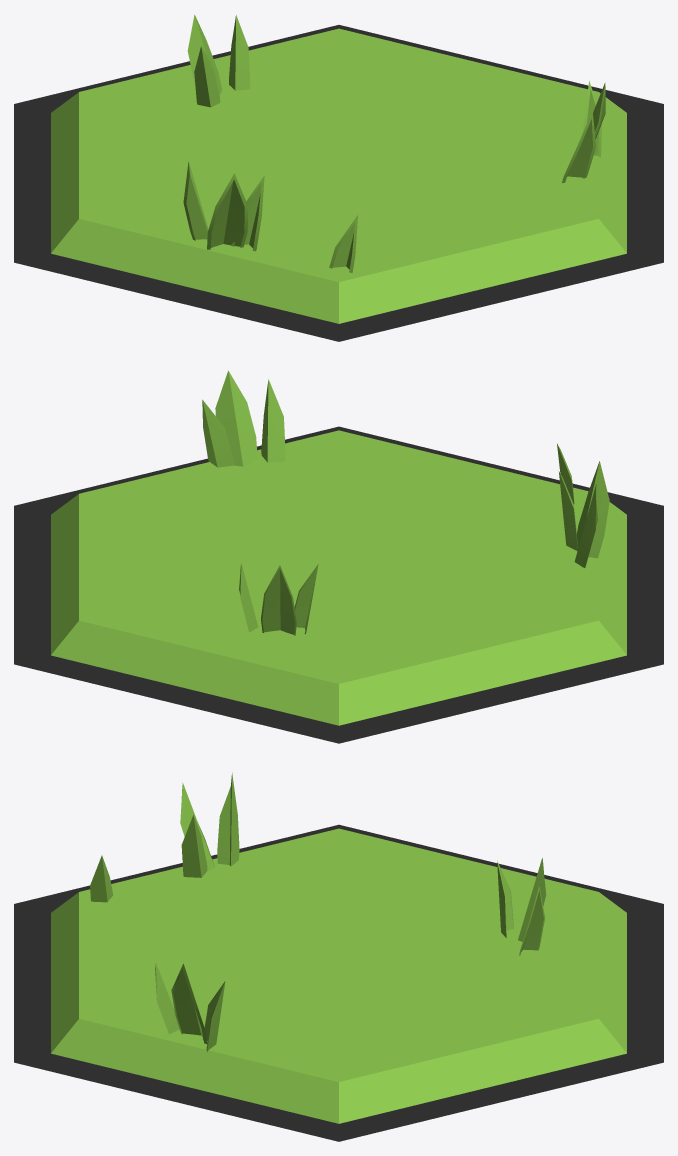
The model's file is GrassTile 1.fbx.
3 views of the same model, one above another, from view 1: azimuth 30°, elevation 25°; view 2: azimuth 150°, elevation 25°; view 3: azimuth 270°, elevation 25° (orthographic).
Parts seen in each view (by area): view 1: Plane; view 2: Plane; view 3: Plane.
Boxes of the visible parts, <box> form: Plane: <box>14,14,663,341</box>; Plane: <box>14,370,663,743</box>; Plane: <box>14,772,663,1141</box>.
Bounding box in the file's own units: 100 × 20.41 × 86.6.
